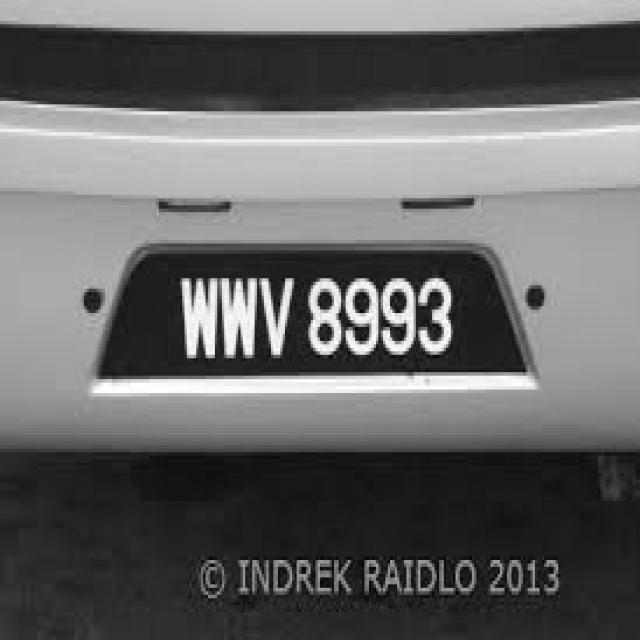License_Plate: (140, 247, 499, 385)
